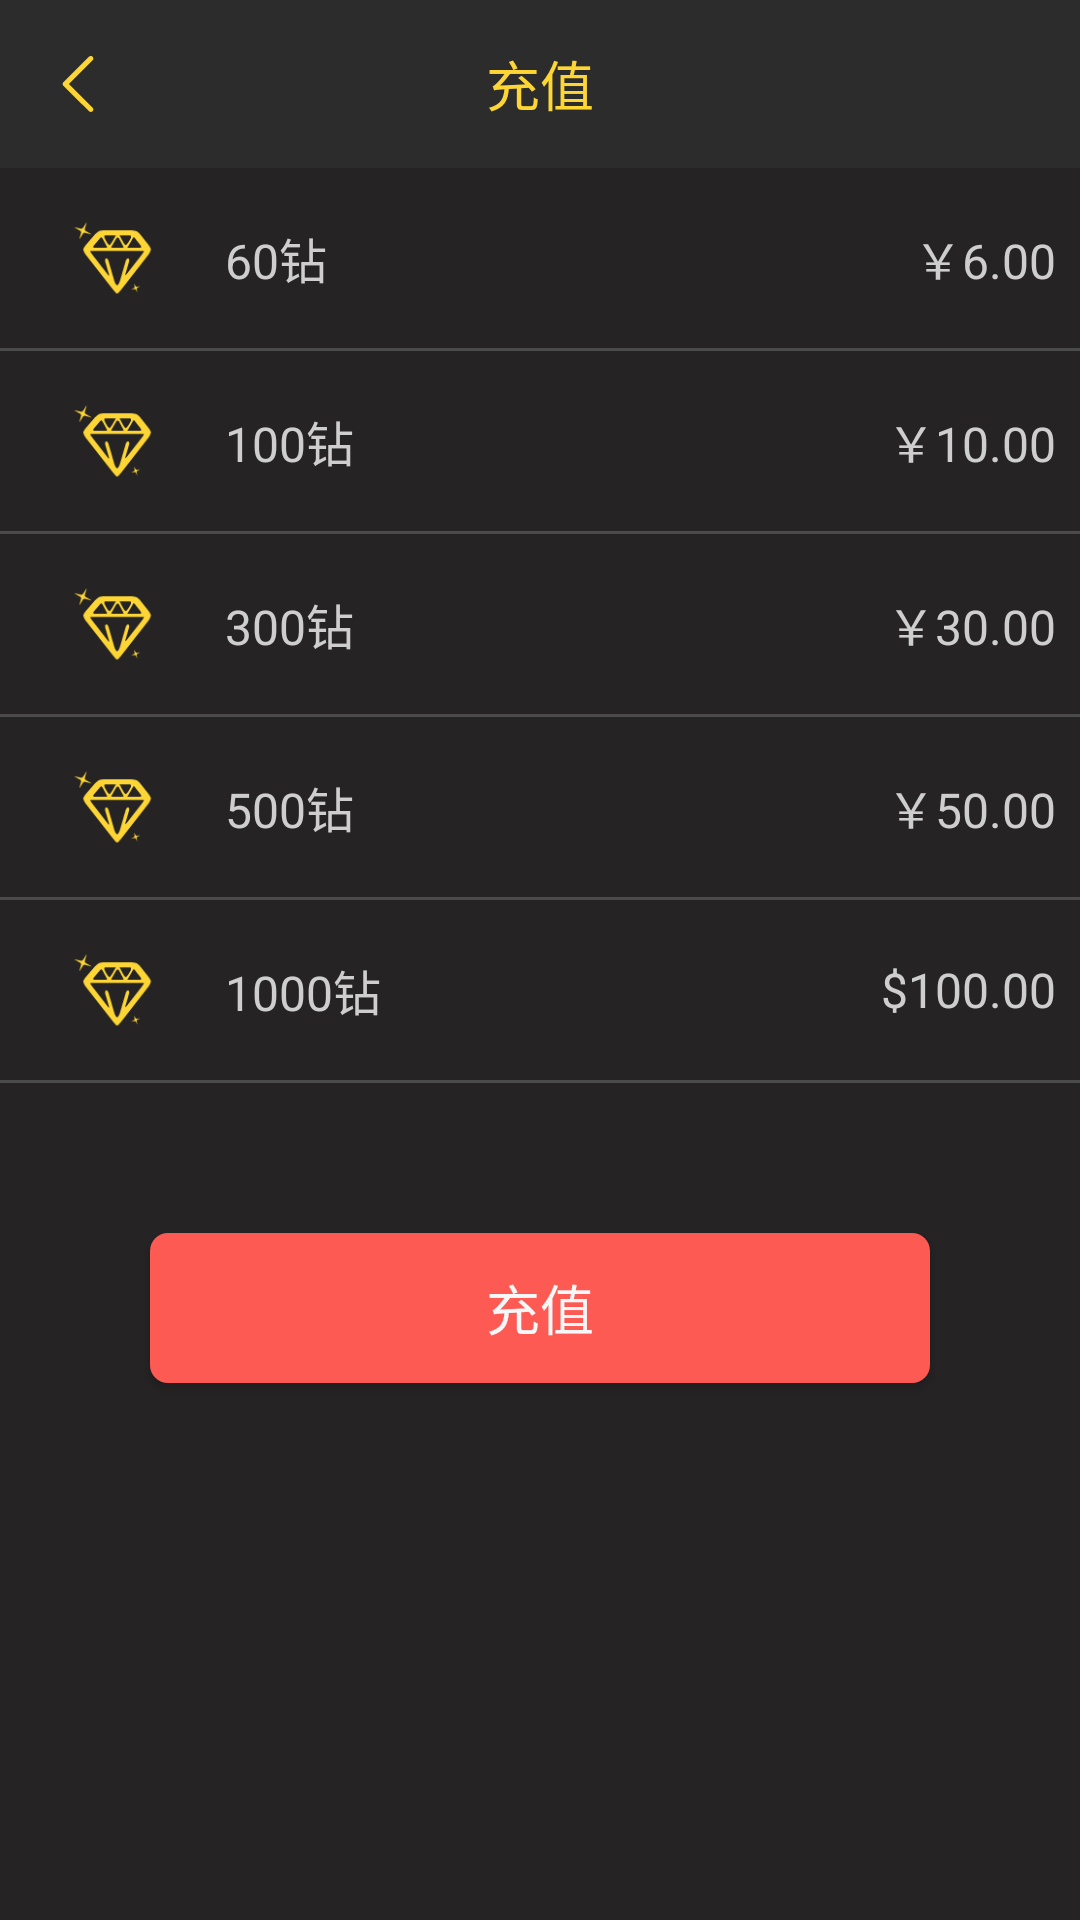

Locate icon controls on the screen. Image size 1080*1920, boxes as (x1, y1, x2, y2).
socket icom back: (62, 56, 94, 112)
socket icom recharge diamond: (74, 223, 152, 294), (74, 406, 152, 477), (74, 589, 152, 660), (74, 772, 152, 843), (74, 955, 152, 1026)
